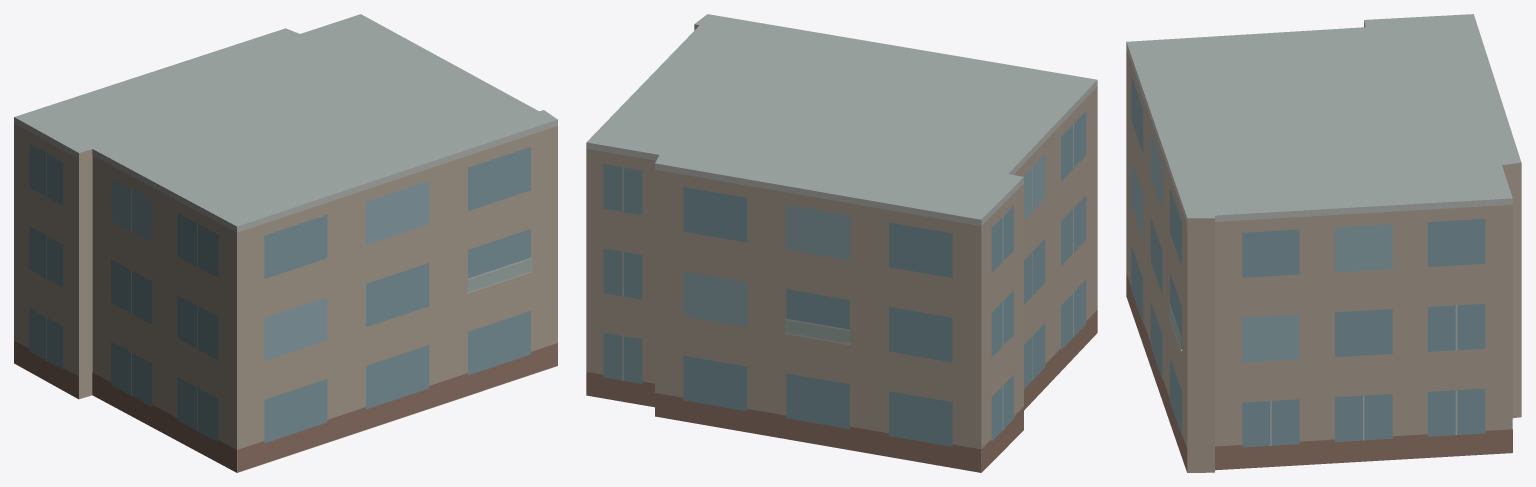
File: survey-upis-32576739.glb
3 views of the same model, side by side, from view 1: azimuth 30°, elevation 25°; view 2: azimuth 150°, elevation 25°; view 3: azimuth 270°, elevation 25° (orthographic). The views are drawn at different scales.
Visible parts, largest first — view 1: survey-upis-32576739.tmp; view 2: survey-upis-32576739.tmp; view 3: survey-upis-32576739.tmp.
Part boxes in pixels (x1,y1,x2,y2): survey-upis-32576739.tmp: (14, 14, 557, 472); survey-upis-32576739.tmp: (586, 14, 1097, 472); survey-upis-32576739.tmp: (1126, 14, 1521, 472).
Size of the model in its own units: 16.88 by 9.8 by 13.79.
